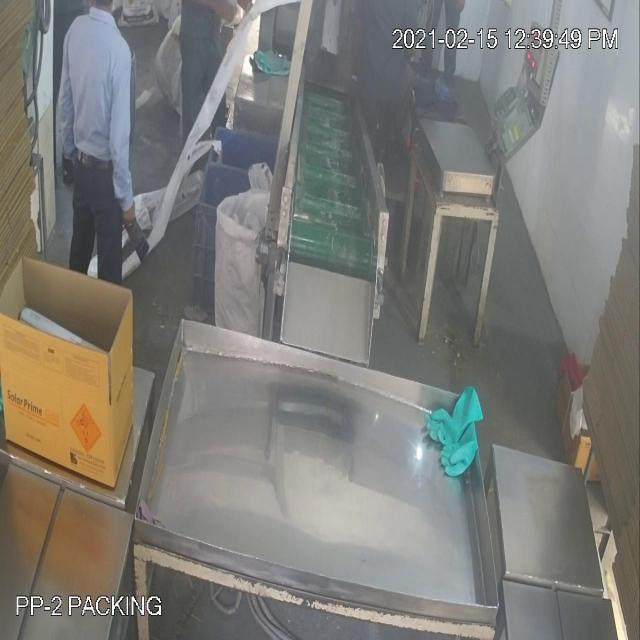Gloves: (33, 103, 452, 436)
